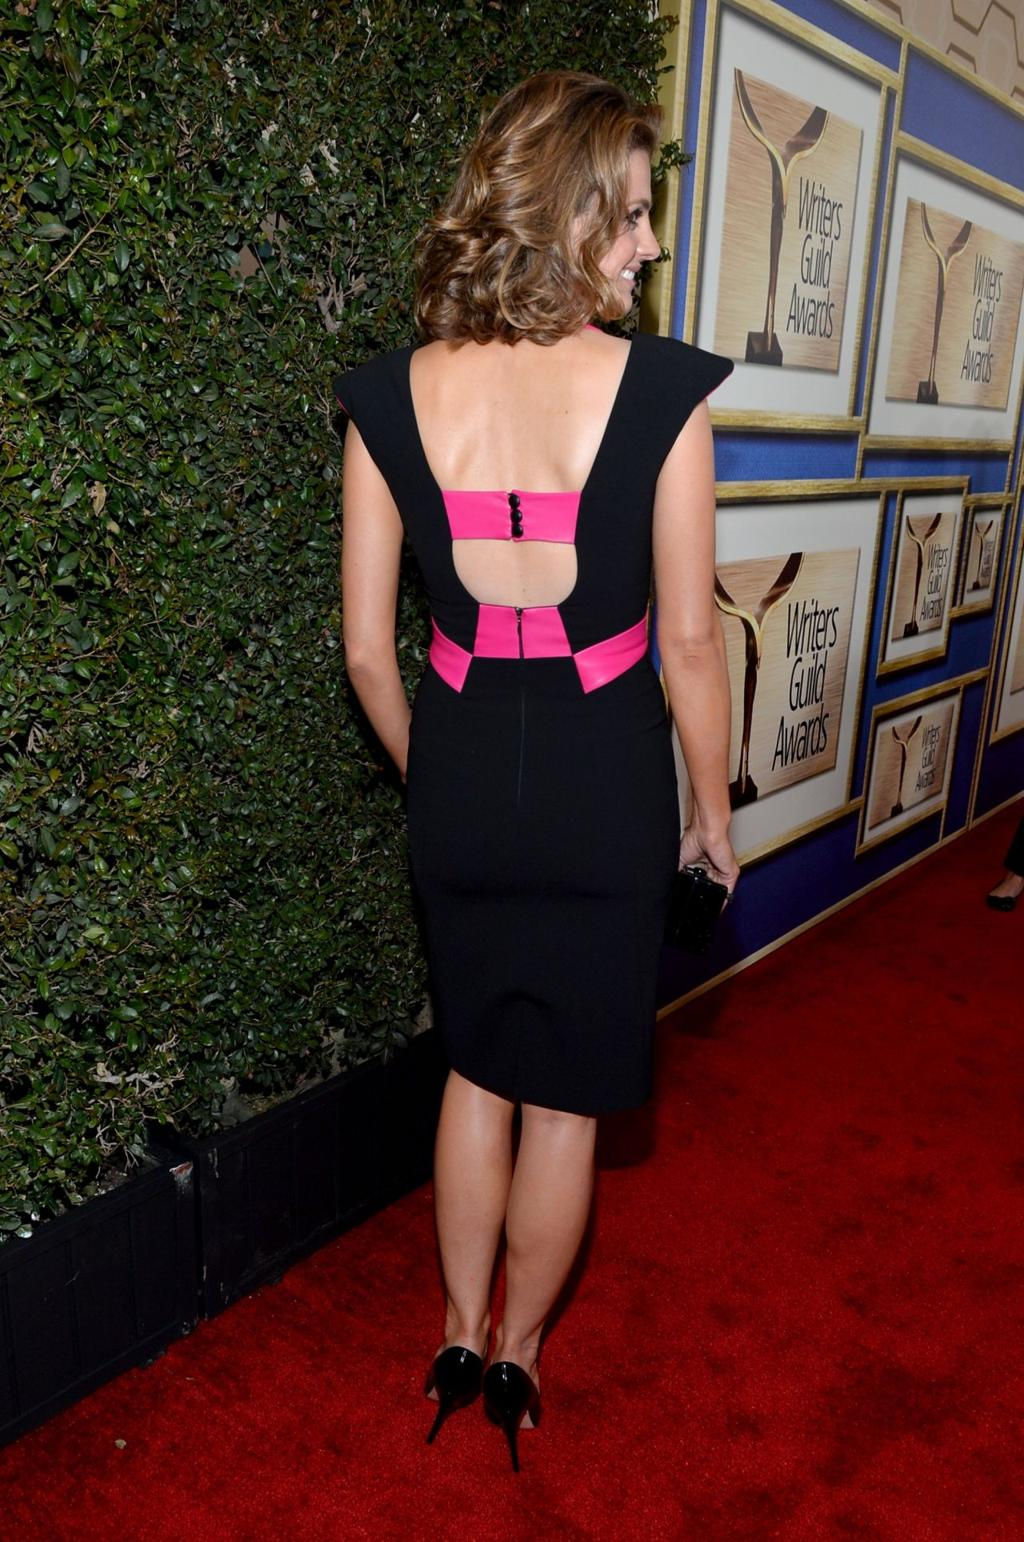face: (551, 117, 659, 316)
